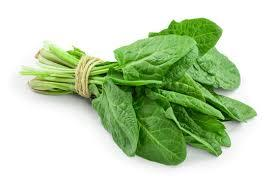non-mango: (18, 16, 257, 165)
